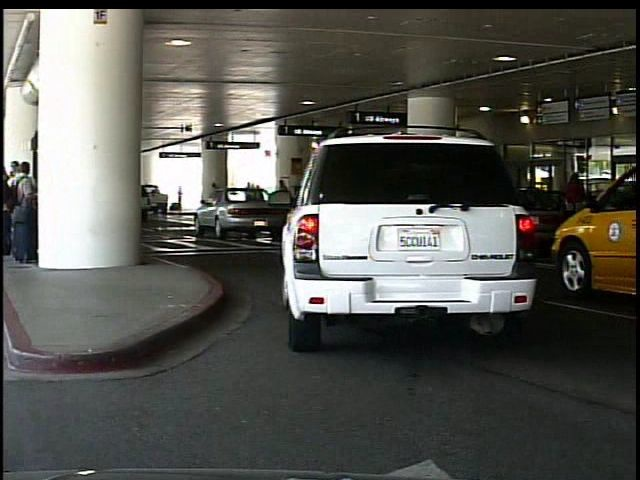person: (561, 169, 591, 255), (179, 185, 186, 212)
